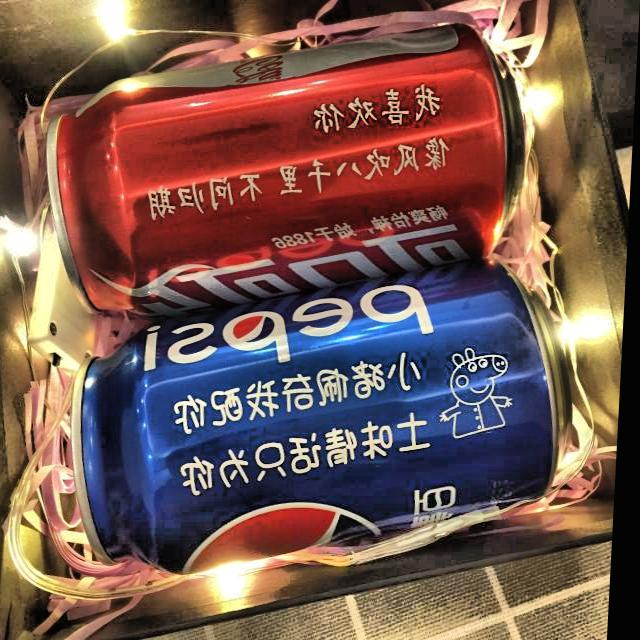can: (57, 252, 585, 576), (32, 9, 543, 339)
